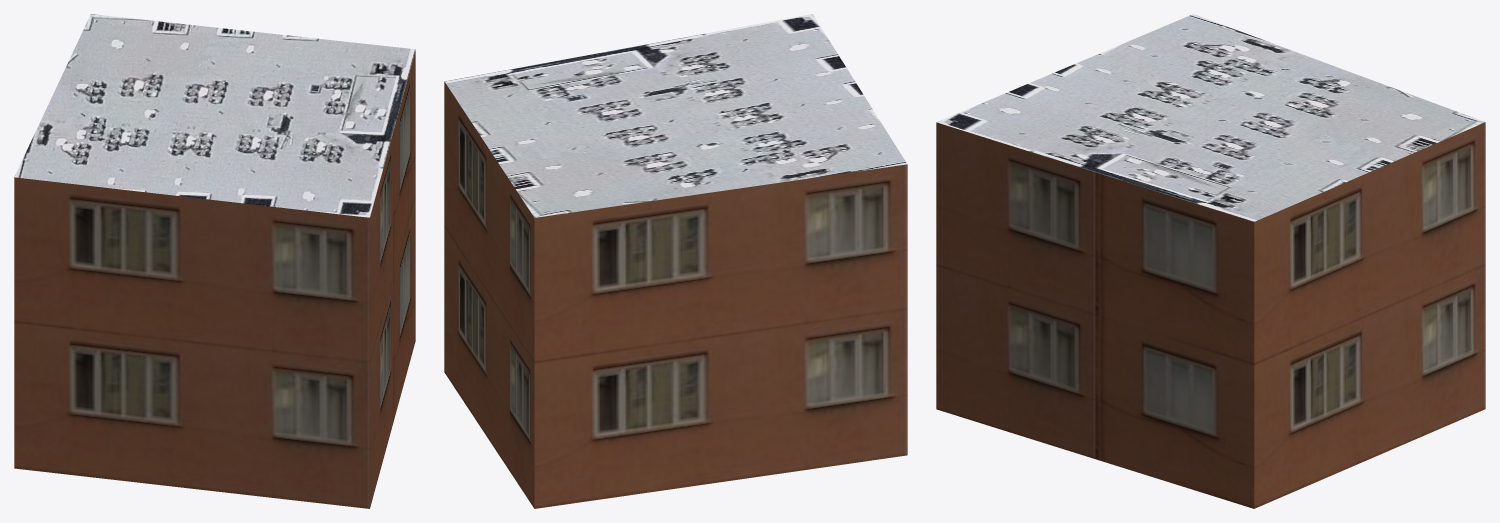
File: ResTex__866.fbx
3 views of the same model, side by side, from view 1: azimuth 30°, elevation 25°; view 2: azimuth 150°, elevation 25°; view 3: azimuth 270°, elevation 25° (orthographic).
Visible parts, largest first — view 1: CityEngineMaterial_20_m, CityEngineMaterial_8_m; view 2: CityEngineMaterial_20_m, CityEngineMaterial_8_m; view 3: CityEngineMaterial_20_m, CityEngineMaterial_8_m.
Boxes of the visible parts, x1,y1,x2,y2 form: CityEngineMaterial_20_m: [14, 50, 415, 508]; CityEngineMaterial_8_m: [14, 14, 415, 217]; CityEngineMaterial_20_m: [444, 81, 907, 508]; CityEngineMaterial_8_m: [444, 14, 906, 217]; CityEngineMaterial_20_m: [936, 122, 1485, 508]; CityEngineMaterial_8_m: [937, 14, 1485, 221].
Size of the model in its own units: 9.33 by 6 by 10.41.
Materials: 2 (2 with a texture image).
